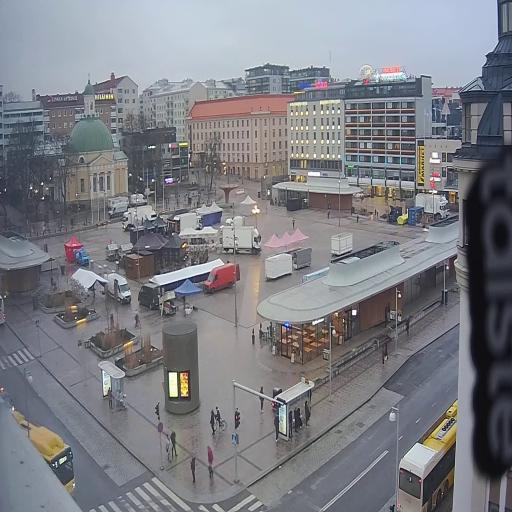bus: (394, 391, 463, 512), (10, 407, 80, 506), (0, 288, 9, 330)
car: (1, 381, 17, 417)
delivery: (202, 258, 242, 299), (217, 224, 264, 258), (101, 269, 132, 308), (414, 192, 449, 226), (122, 202, 155, 234), (137, 276, 163, 316), (170, 208, 204, 235), (104, 199, 130, 222), (220, 210, 246, 230), (72, 245, 91, 268), (128, 188, 148, 208)
two-wheels: (211, 400, 229, 436)
